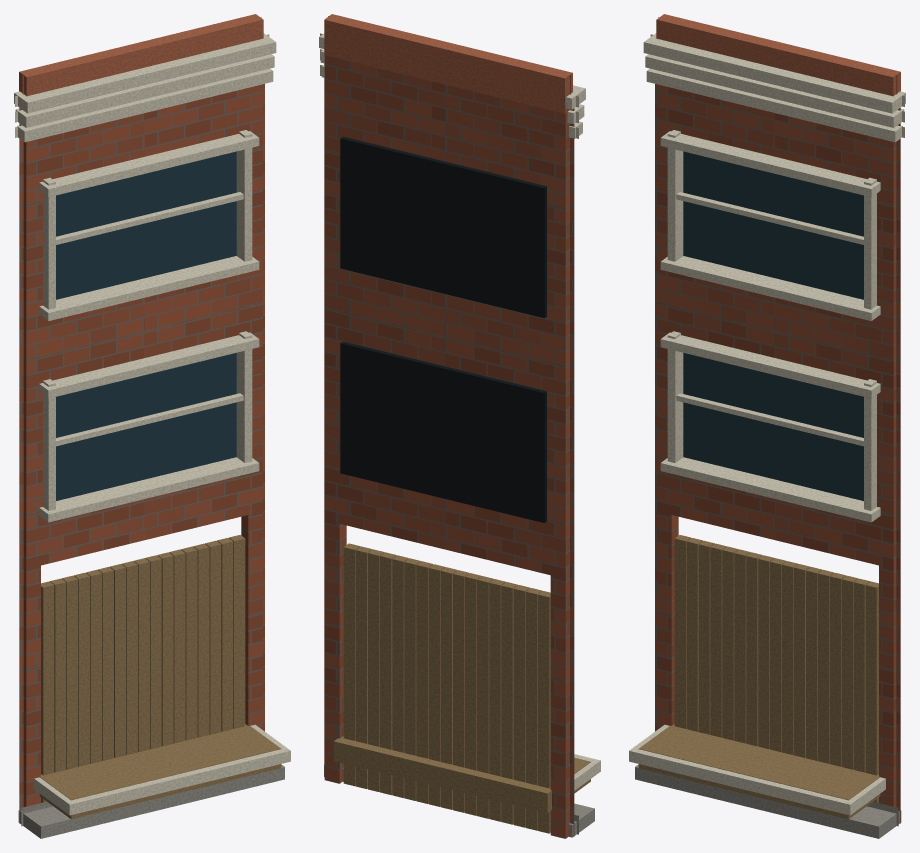
Rendered from WRHS2_lod2.glb.
3 renders of one model, left to right at view 1: azimuth 30°, elevation 25°; view 2: azimuth 150°, elevation 25°; view 3: azimuth 330°, elevation 25°, orthographic.
Visible parts, largest first — view 1: WRHS2_FRONT_LOD2; view 2: WRHS2_FRONT_LOD2; view 3: WRHS2_FRONT_LOD2.
Boxes of the visible parts, x1,y1,x2,y2 form: WRHS2_FRONT_LOD2: (14,14,290,838); WRHS2_FRONT_LOD2: (319,14,600,838); WRHS2_FRONT_LOD2: (629,14,905,838).
Size of the model in its own units: 3.44 by 9.66 by 1.1.
Materials: 8 (6 with a texture image).
